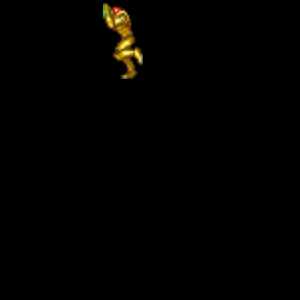Collectible: (103, 3, 143, 79)
